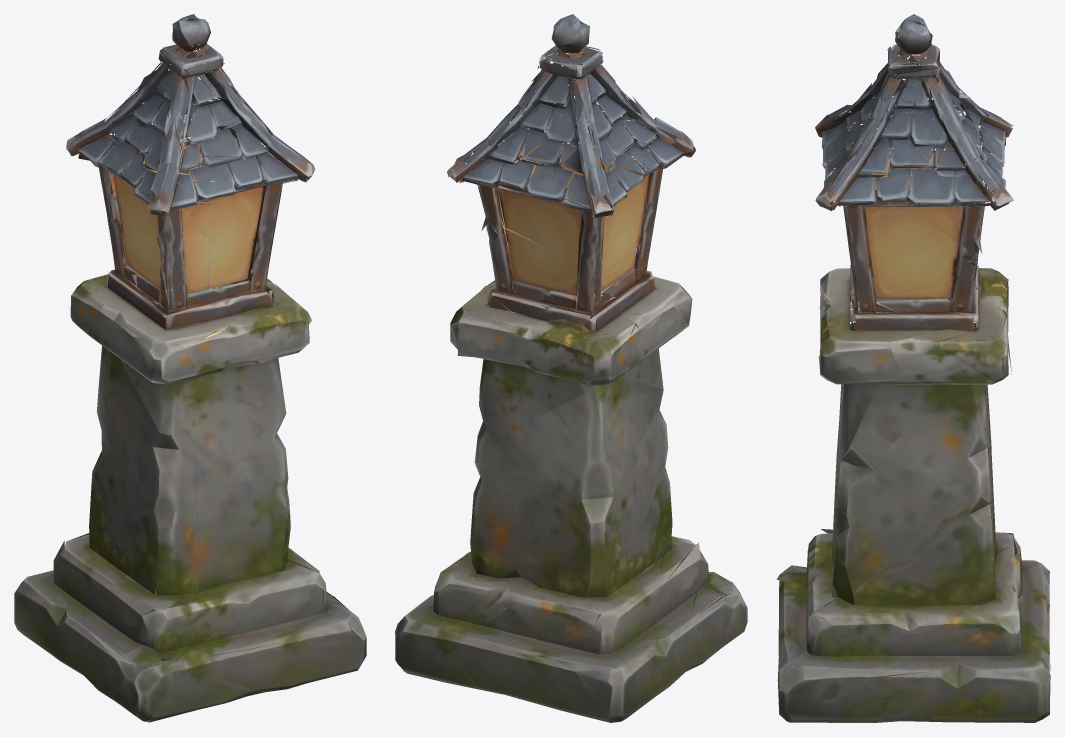
The model's file is stone_lamp.glb.
The picture shows the model from 3 angles, left to right: view 1: azimuth 30°, elevation 25°; view 2: azimuth 150°, elevation 25°; view 3: azimuth 270°, elevation 25°; orthographic projection. The views are drawn at different scales.
Visible parts, largest first — view 1: Mesh_0; view 2: Mesh_0; view 3: Mesh_0.
Part boxes in pixels (left/top/right/bottom): Mesh_0: left=14, top=14, right=366, bottom=722; Mesh_0: left=395, top=14, right=747, bottom=722; Mesh_0: left=776, top=14, right=1050, bottom=722.
Size of the model in its own units: 0.9057 by 2.4 by 0.9151.
Materials: 1 (1 with a texture image).
